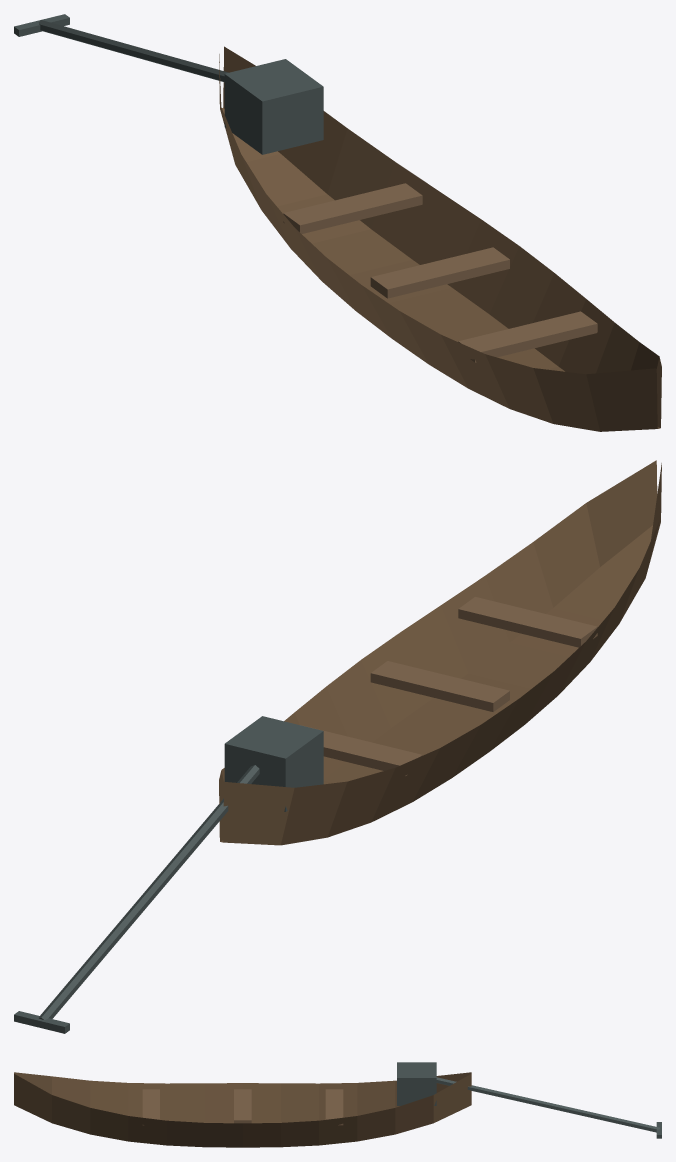
Rendered from thai_longtail.glb.
The picture shows the model from 3 angles, top to bottom: view 1: azimuth 30°, elevation 25°; view 2: azimuth 150°, elevation 25°; view 3: azimuth 270°, elevation 25°; orthographic projection. The views are drawn at different scales.
Visible parts, largest first — view 1: thai_longtail; view 2: thai_longtail; view 3: thai_longtail.
Boxes of the visible parts, x1,y1,x2,y2 form: thai_longtail: [14, 14, 661, 431]; thai_longtail: [14, 460, 661, 1033]; thai_longtail: [14, 1062, 661, 1147].
Size of the model in its own units: 1.09 by 0.8151 by 7.36.
